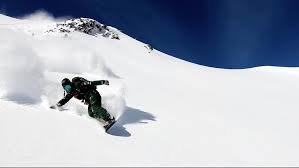snowboarder: (44, 63, 127, 136)
